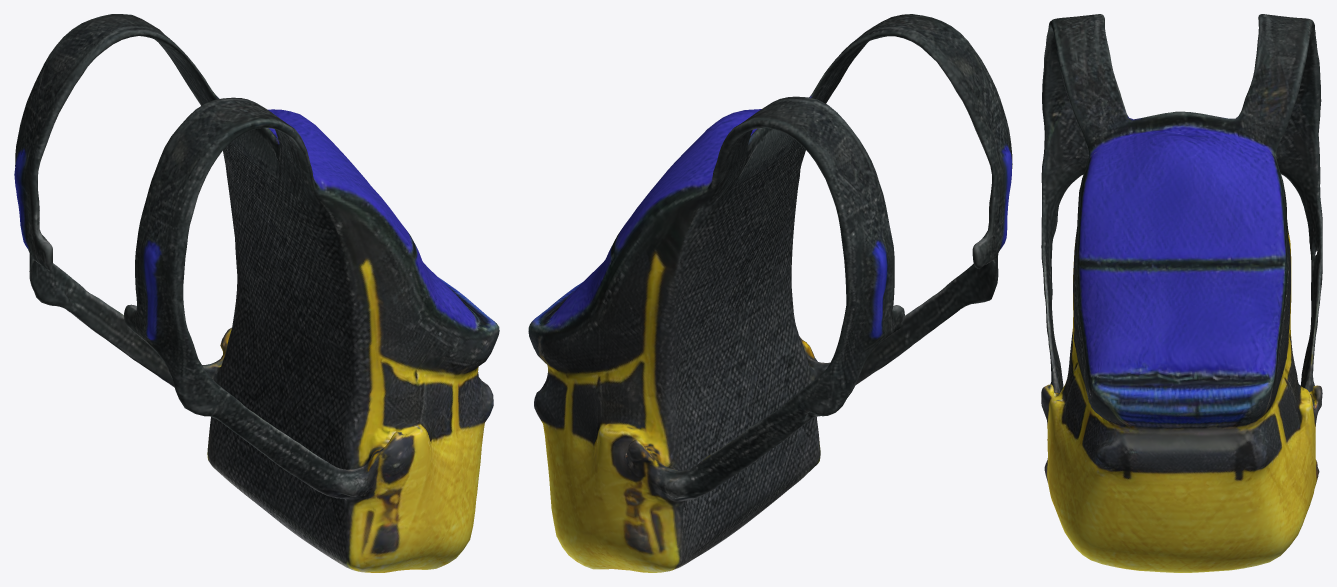
The picture shows the model from 3 angles, left to right: view 1: azimuth 30°, elevation 25°; view 2: azimuth 150°, elevation 25°; view 3: azimuth 270°, elevation 25°; orthographic projection. The views are drawn at different scales.
Parts seen in each view (by area): view 1: Mesh; view 2: Mesh; view 3: Mesh.
Part boxes in pixels (bbox=[...]): Mesh: bbox=[14, 14, 499, 572]; Mesh: bbox=[528, 14, 1012, 572]; Mesh: bbox=[1041, 14, 1322, 572].
Bounding box in the file's own units: 0.6309 × 0.828 × 0.4614.
Materials: 1 (1 with a texture image).
